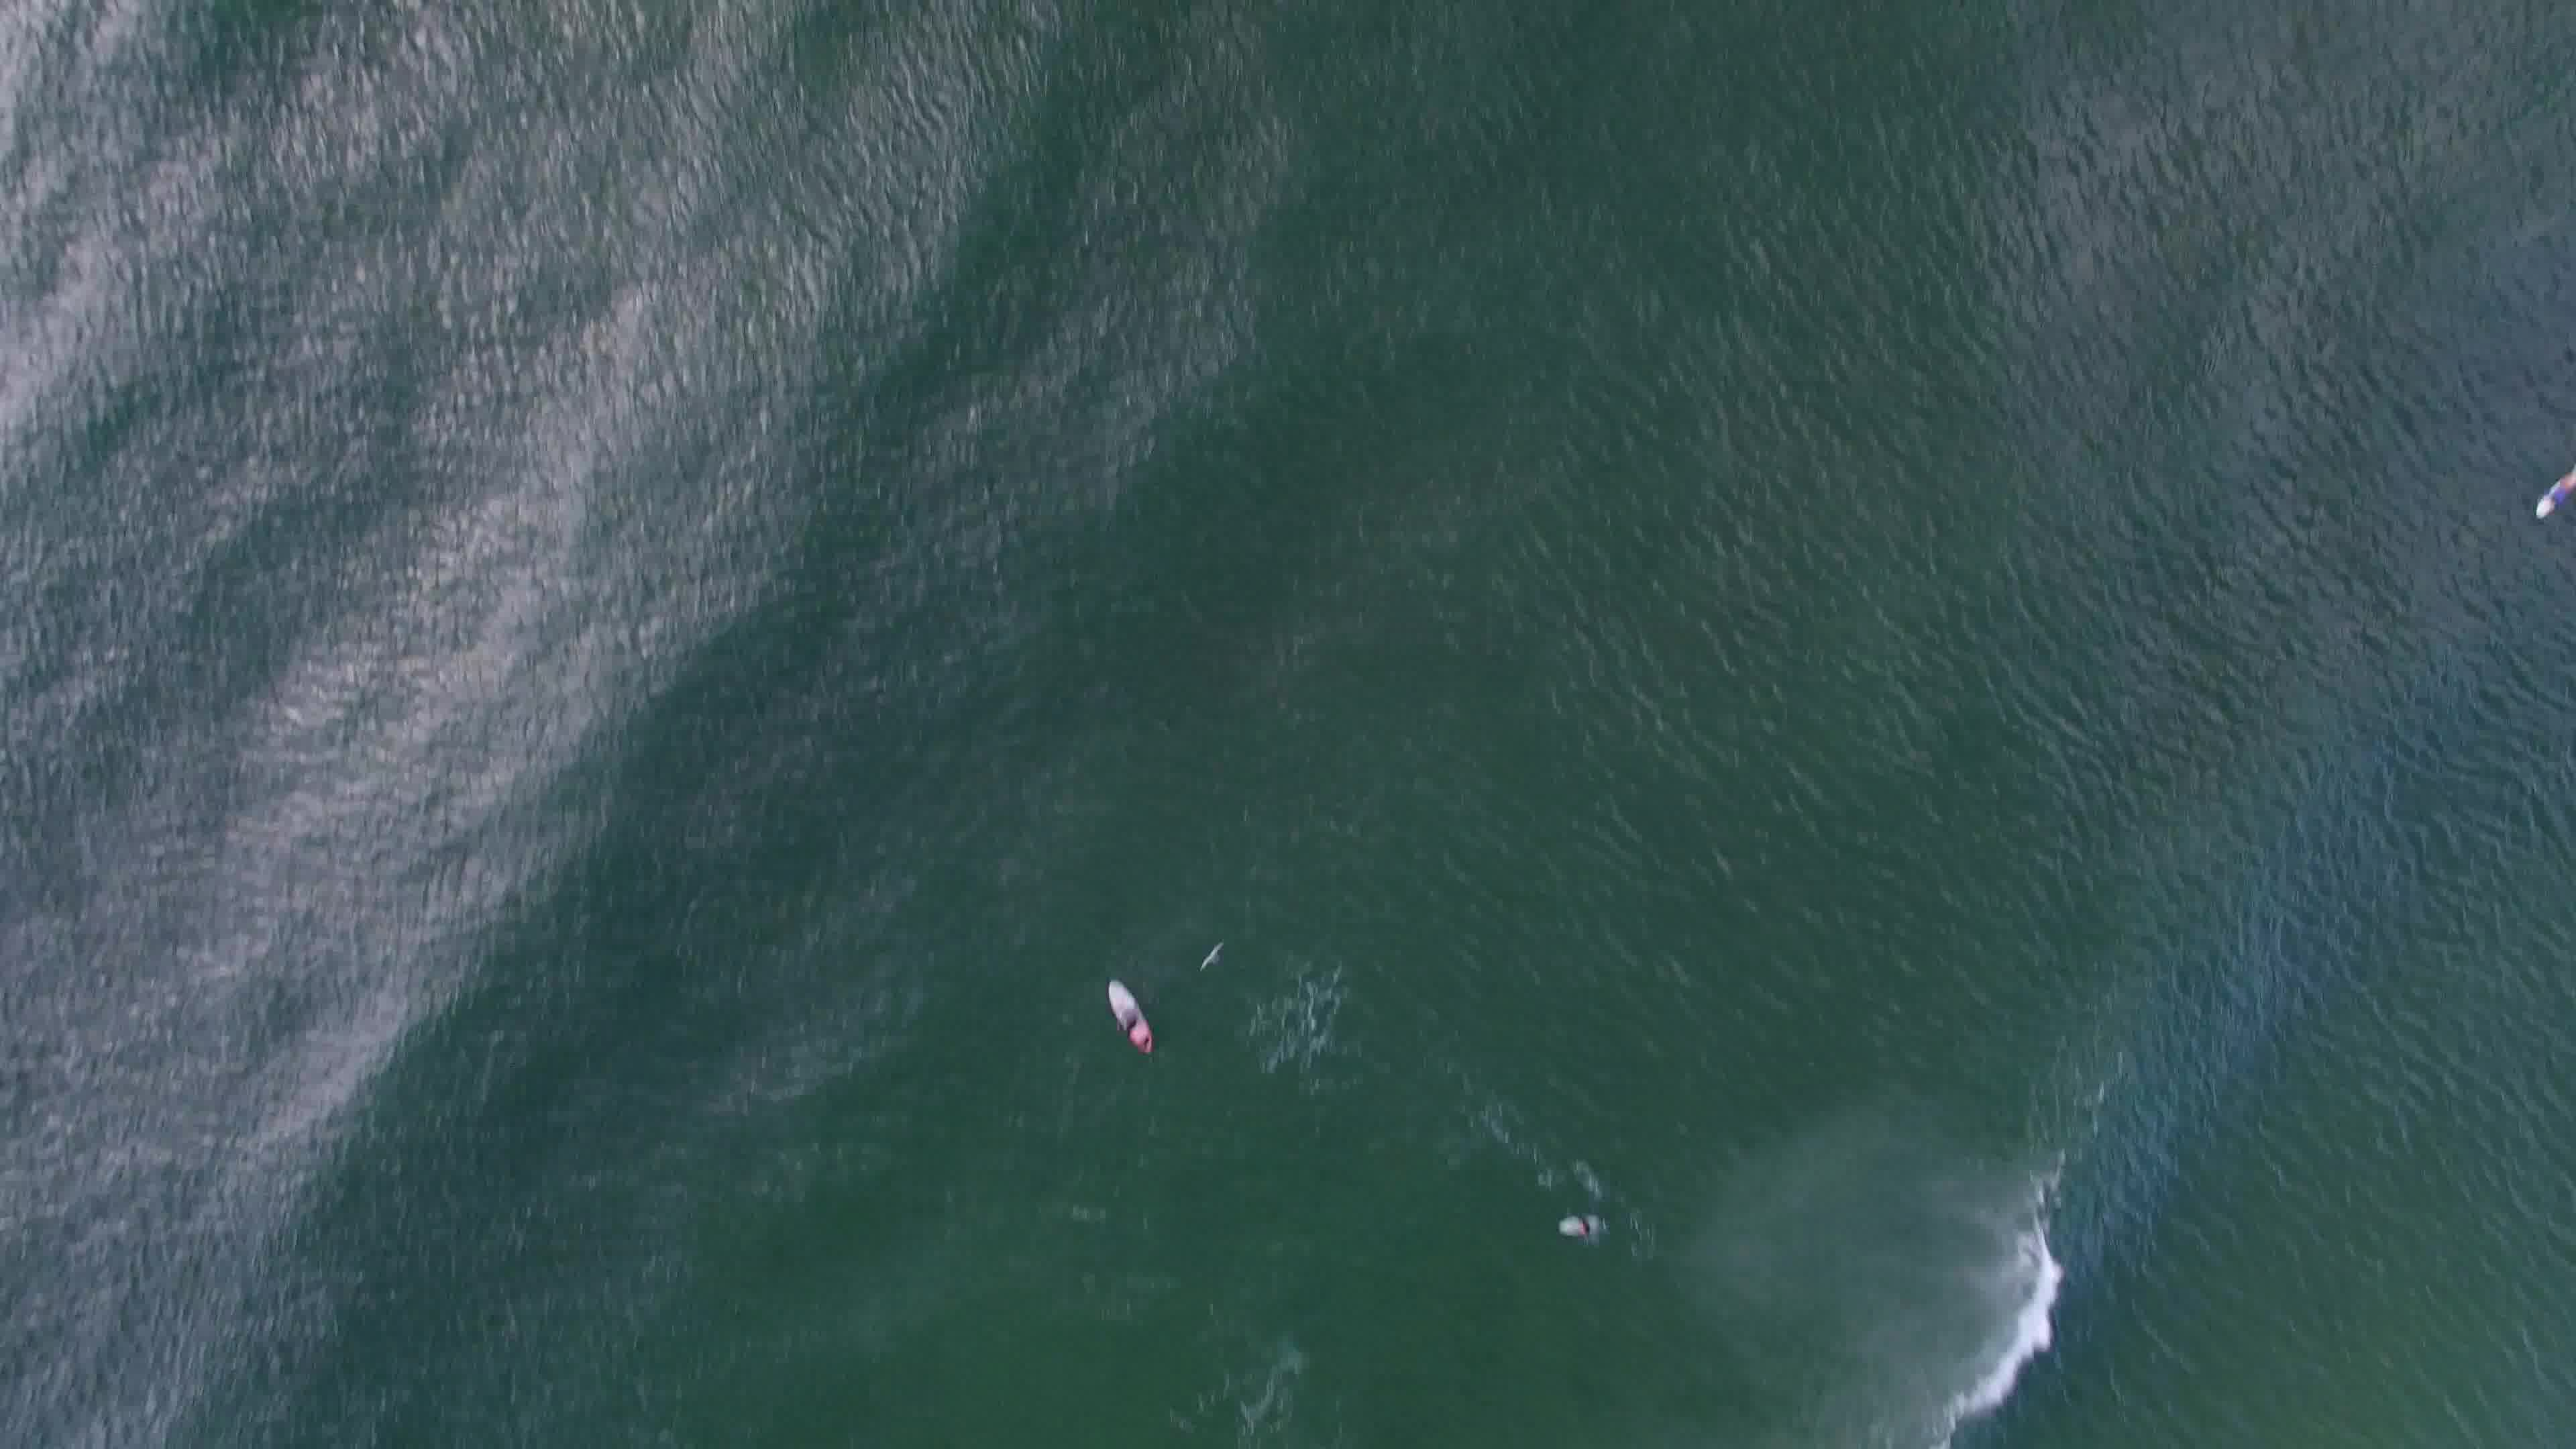surfer: (1097, 970, 1166, 1062), (2526, 462, 2576, 522), (1555, 1205, 1621, 1249)
